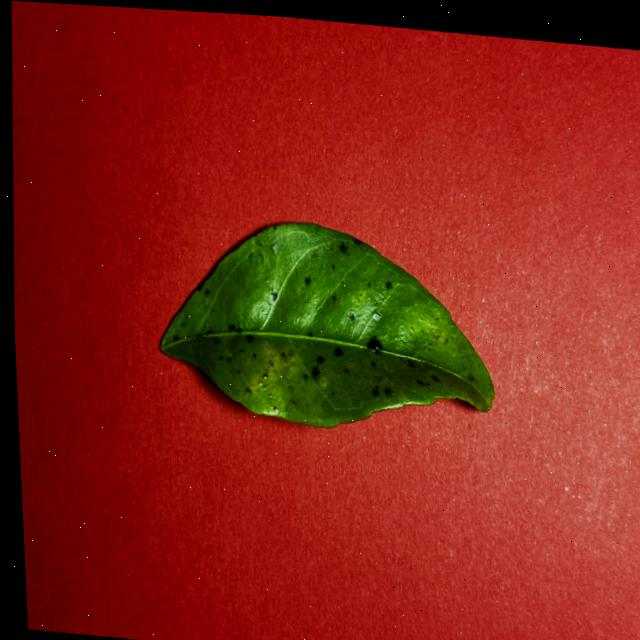sooty_mold: (165, 222, 494, 426)
